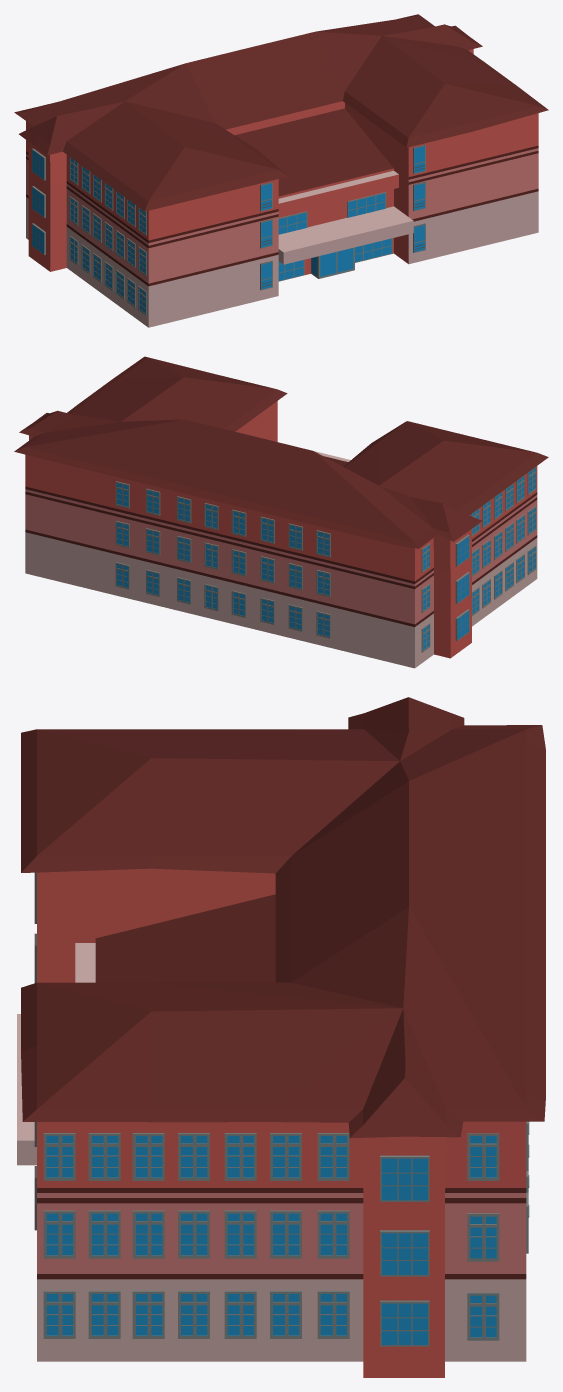
The model's file is pansiyon.fbx.
3 renders of one model, top to bottom at view 1: azimuth 30°, elevation 25°; view 2: azimuth 150°, elevation 25°; view 3: azimuth 270°, elevation 25°, orthographic. The views are drawn at different scales.
Visible parts, largest first — view 1: Plane, Cube.013, Cube.017, Cube.012, Cube.015; view 2: Plane, Cube.088, Cube.052, Cube.070; view 3: Plane, Cube.006, Cube.007, Cube.008, Cube.098, Cube.099, Cube.107, Cube.108, Cube.109, Cube.111, Cube.113, Cube.100 (+16 smaller).
Boxes of the visible parts, x1=… form: Plane: x1=14, y1=14, x2=548, y2=327; Cube.013: x1=347, y1=192, x2=386, y2=217; Cube.017: x1=355, y1=238, x2=392, y2=262; Cube.012: x1=278, y1=211, x2=307, y2=234; Cube.015: x1=278, y1=259, x2=304, y2=281; Plane: x1=14, y1=356, x2=548, y2=668; Cube.088: x1=231, y1=590, x2=246, y2=617; Cube.052: x1=231, y1=509, x2=246, y2=536; Cube.070: x1=231, y1=549, x2=246, y2=576; Plane: x1=17, y1=697, x2=545, y2=1377; Cube.006: x1=380, y1=1155, x2=429, y2=1201; Cube.007: x1=380, y1=1230, x2=429, y2=1276; Cube.008: x1=380, y1=1300, x2=429, y2=1346; Cube.098: x1=467, y1=1213, x2=499, y2=1261; Cube.099: x1=467, y1=1292, x2=499, y2=1340; Cube.107: x1=43, y1=1210, x2=75, y2=1258; Cube.108: x1=88, y1=1210, x2=120, y2=1258; Cube.109: x1=132, y1=1210, x2=164, y2=1258; Cube.111: x1=224, y1=1210, x2=256, y2=1258; Cube.113: x1=317, y1=1210, x2=349, y2=1258; Cube.100: x1=467, y1=1133, x2=499, y2=1180.
Bounding box in the file's own units: 3473 × 1251 × 1825.
